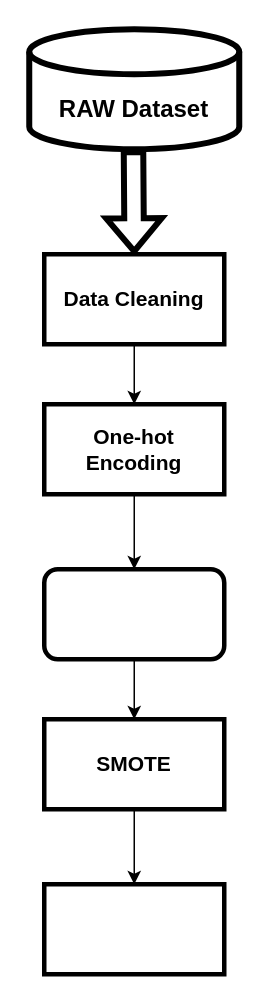
Image size: 267x1002. Some labels were removed from this diagram. The box of each missing label's shape, as (x1, y1, x2, y2) in pixels:
Nomarlization: (41, 566, 226, 661)
Train_Test_Split: (41, 881, 226, 976)
